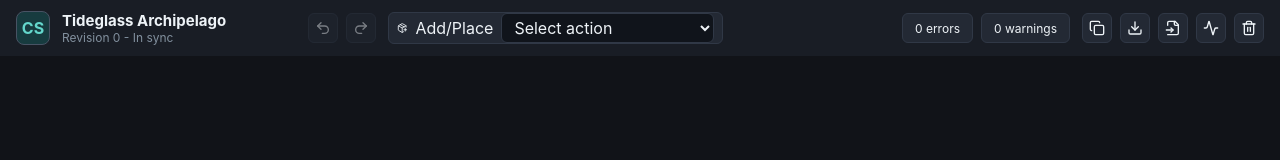
rendered surface equivalence classes › downloads the committed world JSON with the world ID as filename and cleans up the object URL
This screenshot has width=1280, height=160.
Click the button named "Download JSON" at (1135, 28), box top-left (1120, 13), bottom-right (1150, 43)
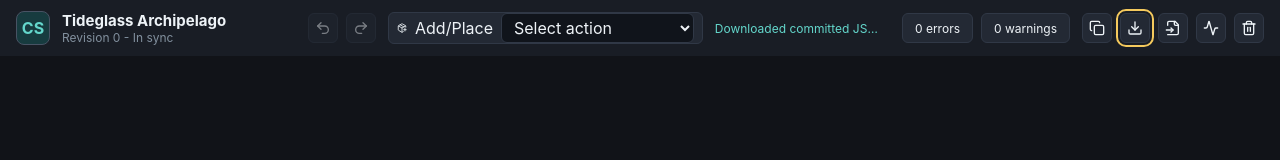
Now the message reads "Downloaded committed JSON.", box top-left (715, 20), bottom-right (889, 36)
